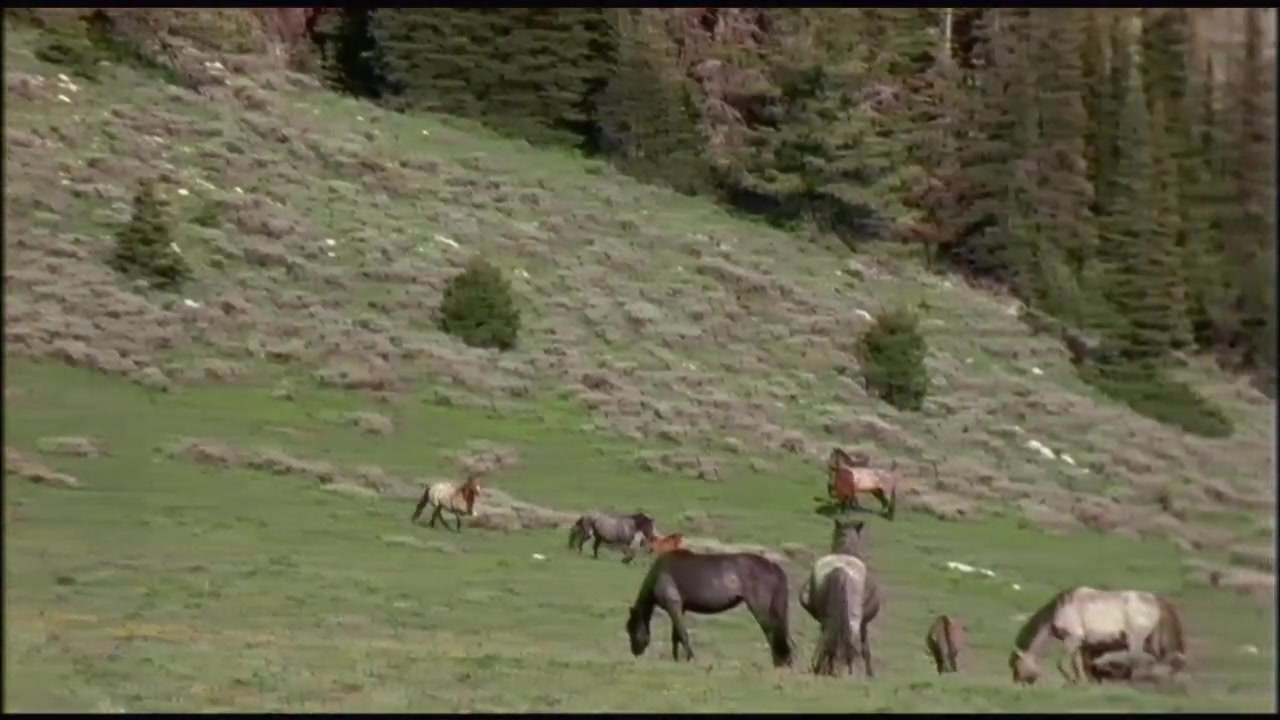horse: (626, 549, 791, 671)
